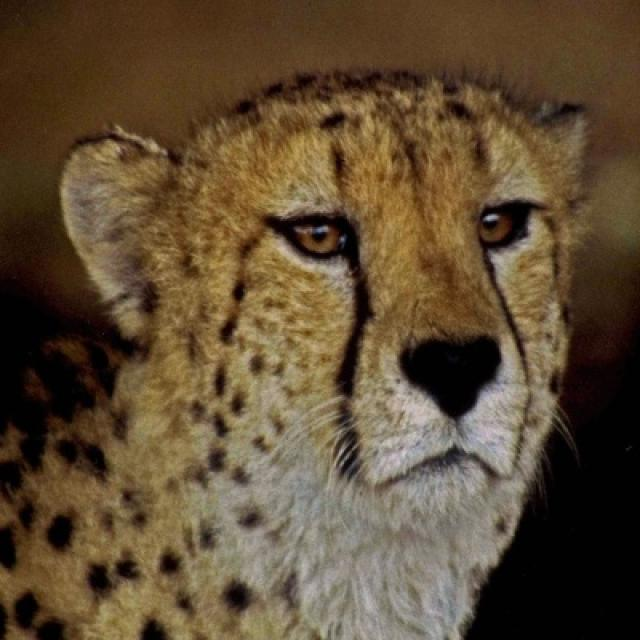Cheetah: (0, 72, 590, 638)
